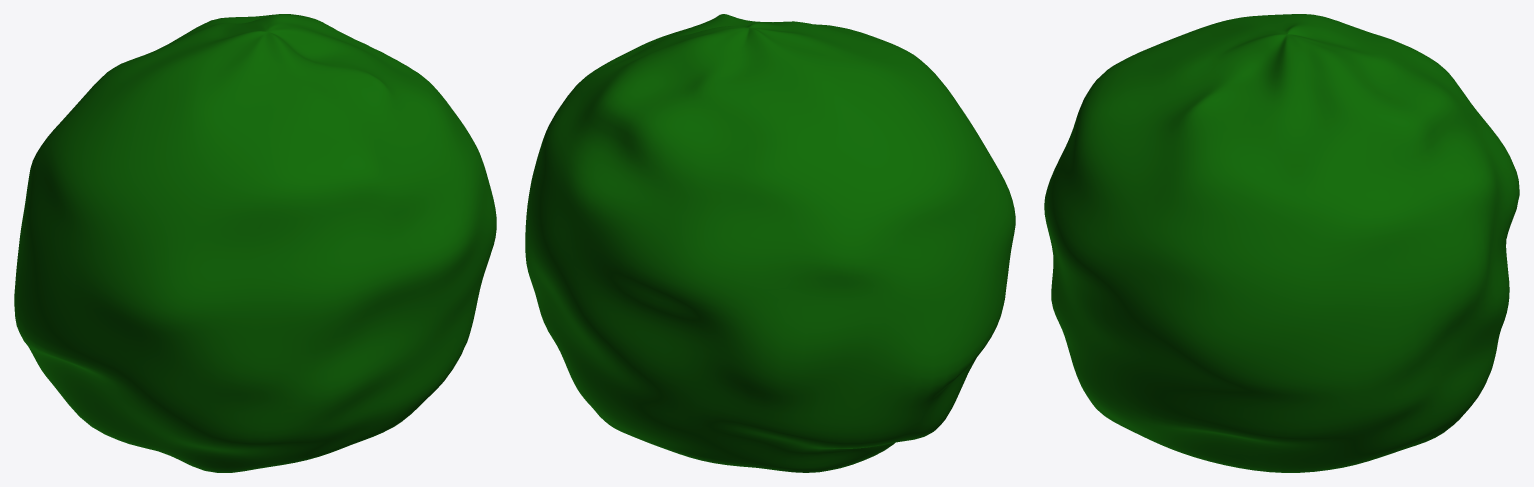
File: arbusto.fbx
3 renders of one model, left to right at view 1: azimuth 30°, elevation 25°; view 2: azimuth 150°, elevation 25°; view 3: azimuth 270°, elevation 25°, orthographic. The views are drawn at different scales.
Parts seen in each view (by area): view 1: Sphere; view 2: Sphere; view 3: Sphere.
Part boxes in pixels (left/top/right/bottom): Sphere: left=14, top=14, right=496, bottom=472; Sphere: left=525, top=14, right=1015, bottom=472; Sphere: left=1044, top=14, right=1519, bottom=472.
Size of the model in its own units: 1474 by 1268 by 1367.
